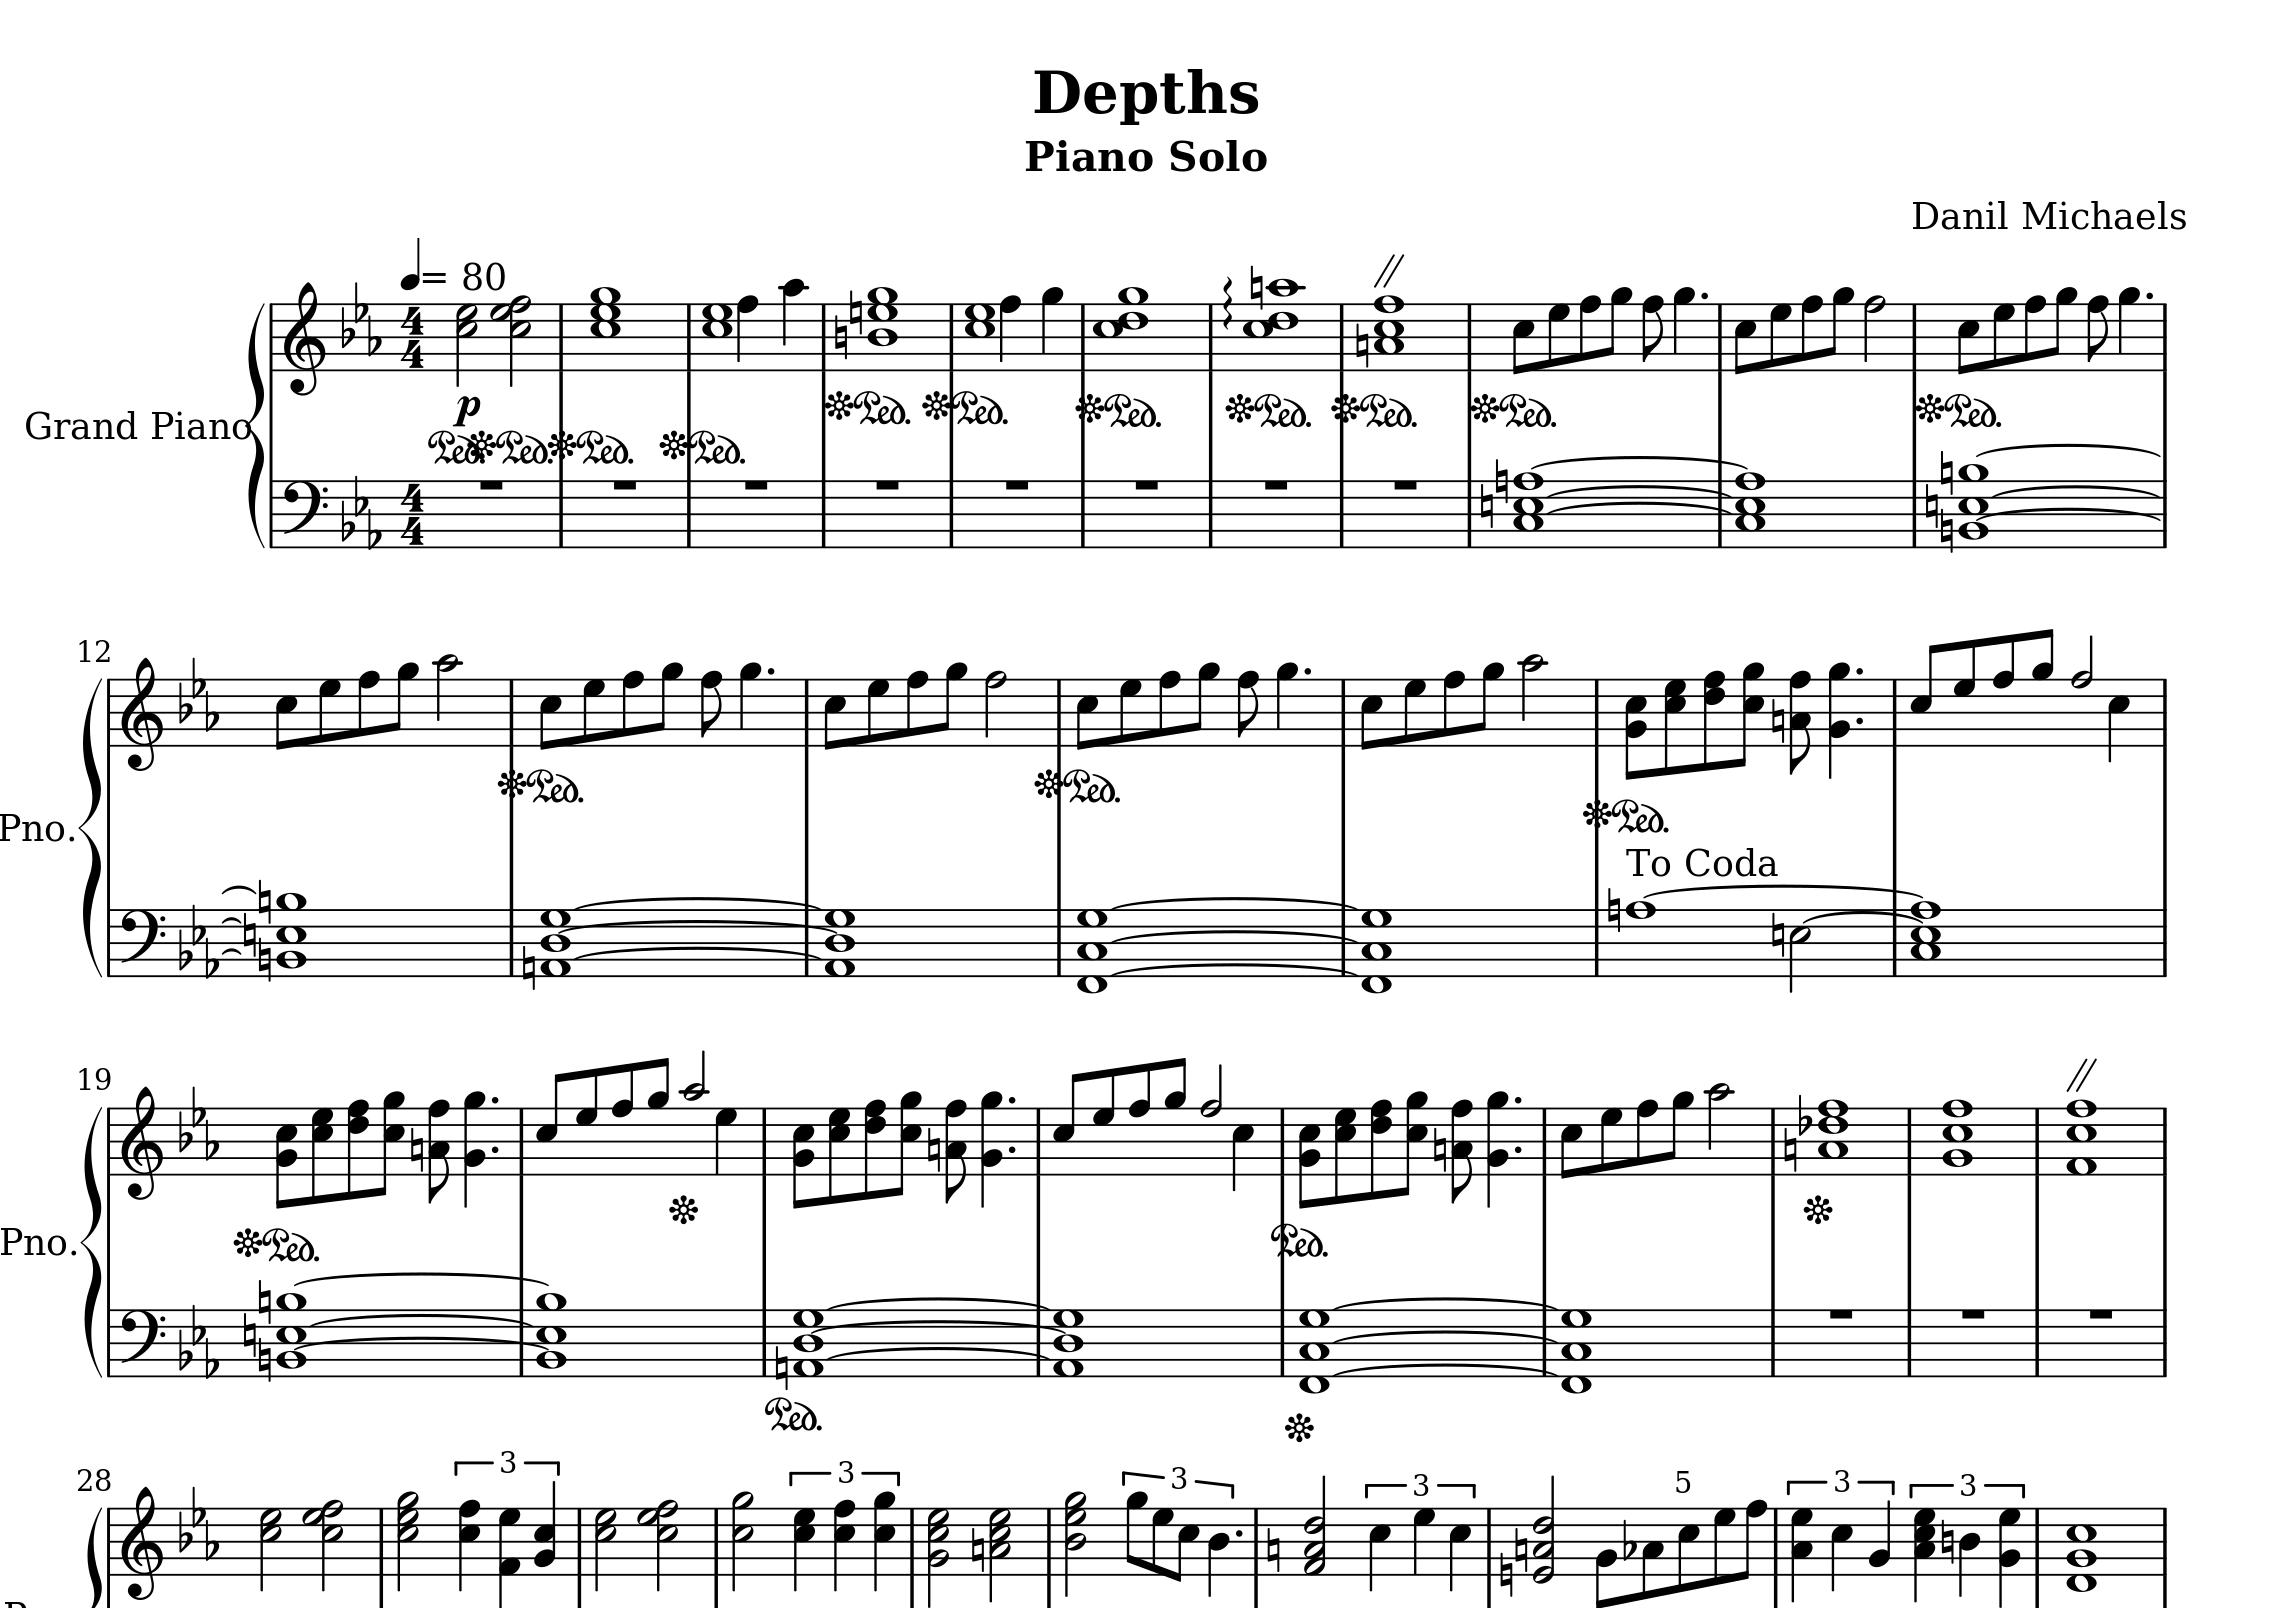0: (484, 258, 507, 292)
1: (77, 1063, 91, 1091), (78, 635, 91, 665)
1_5_7: (703, 301, 736, 374), (964, 303, 997, 372)
1_8: (1622, 896, 1657, 980)
1_th: (1243, 277, 1304, 372), (1091, 284, 1149, 371), (2063, 1504, 2101, 1596), (867, 284, 902, 376), (273, 893, 310, 980), (1558, 1305, 1593, 1396), (588, 284, 623, 372), (1358, 905, 1393, 994), (533, 1290, 567, 1378), (1297, 1305, 1332, 1394), (1956, 459, 1990, 548), (1076, 905, 1109, 994), (275, 1291, 308, 1380), (1815, 1095, 1850, 1173), (1732, 466, 1765, 546), (1941, 1096, 1974, 1176), (790, 1305, 825, 1380), (1513, 466, 1544, 548), (538, 905, 573, 978), (1050, 1305, 1084, 1378), (1373, 291, 1405, 371), (1909, 896, 1941, 976), (2066, 1096, 2097, 1176), (822, 907, 855, 980)
2: (92, 637, 111, 663), (75, 1465, 92, 1491)
2_10: (681, 1049, 707, 1175), (1706, 1081, 1734, 1178), (433, 653, 461, 748), (1520, 653, 1547, 748)
2_5: (1789, 908, 1814, 994)
2_5_7: (594, 1505, 620, 1592), (454, 305, 480, 386), (258, 1505, 280, 1592)
2_5_9: (731, 1490, 754, 1592)
2_7: (1199, 1062, 1224, 1176), (2071, 633, 2092, 745)
2_8: (1862, 292, 1887, 372), (983, 668, 1008, 748)
2_th: (637, 1497, 682, 1596), (299, 1498, 346, 1591), (491, 296, 534, 386), (1062, 1490, 1090, 1599), (1530, 1476, 1558, 1584), (1302, 1476, 1328, 1578), (397, 1490, 421, 1592), (926, 1504, 950, 1605), (987, 1504, 1011, 1603)
3: (1956, 1471, 1981, 1498), (1410, 1471, 1431, 1502), (1833, 1469, 1856, 1497), (1170, 1464, 1189, 1491), (498, 1450, 517, 1477), (837, 1460, 856, 1484)
4: (399, 303, 426, 336), (399, 336, 426, 369), (400, 479, 426, 513), (400, 513, 426, 546)
4_10: (780, 277, 808, 372)
4_1_7: (498, 1505, 520, 1608)
4_2: (1868, 1498, 1892, 1577)
4_2_5: (533, 1481, 557, 1578)
4_2_7: (978, 1088, 1004, 1209), (461, 1088, 487, 1209), (1998, 1504, 2021, 1608)
4_2_9: (1826, 660, 1852, 780), (1485, 1089, 1511, 1208)
4_3_7: (1789, 1505, 1814, 1603)
4_4: (1206, 1505, 1231, 1599), (1956, 1507, 1981, 1599)
4_5: (2106, 675, 2131, 764), (1231, 1105, 1255, 1192), (1829, 1505, 1854, 1592), (1368, 1505, 1391, 1592), (1448, 1505, 1471, 1592)
4_5_8: (456, 1498, 482, 1592)
4_7: (714, 1105, 738, 1176), (1412, 1505, 1436, 1577)
4_8: (997, 292, 1022, 372), (736, 292, 759, 372)
4_9: (738, 660, 762, 748), (1039, 284, 1064, 371), (1673, 285, 1697, 372), (1274, 660, 1299, 747), (2117, 285, 2139, 372)
4_th: (1909, 1500, 1939, 1605)
5: (1674, 1465, 1692, 1498)
8: (460, 258, 482, 291), (94, 1465, 111, 1491)
8_2: (1594, 1509, 1619, 1608)
8_2_5: (273, 1107, 299, 1211), (790, 1107, 816, 1209), (1624, 675, 1648, 781), (1297, 1107, 1321, 1209)
8_3: (1640, 1505, 1664, 1601)
8_3_8: (1448, 1098, 1476, 1206), (942, 1096, 970, 1204), (426, 1098, 454, 1206), (1788, 668, 1814, 774)
8_5: (1051, 1070, 1083, 1178), (534, 1070, 566, 1176), (1909, 642, 1939, 748), (1676, 1505, 1701, 1592), (1173, 1505, 1199, 1584), (273, 675, 299, 752), (1955, 301, 1981, 374), (538, 675, 562, 752), (1359, 675, 1384, 752), (1732, 301, 1756, 376), (822, 677, 846, 752), (1511, 301, 1535, 374), (1076, 675, 1098, 752), (1560, 1107, 1582, 1182)
8_5_7: (827, 1103, 851, 1201), (1662, 679, 1687, 774), (1333, 1107, 1358, 1203), (310, 1107, 334, 1203)
8_5_8: (1735, 663, 1767, 766)
8_5_9: (374, 1089, 406, 1196), (891, 1089, 923, 1194), (1398, 1089, 1427, 1196)
8_6_8: (1701, 670, 1727, 771), (1368, 1100, 1393, 1201), (346, 1098, 371, 1199), (863, 1098, 886, 1199)
8_7: (1091, 1065, 1116, 1176), (1951, 637, 1976, 747), (574, 1067, 599, 1176), (1401, 675, 1427, 748), (1117, 675, 1144, 747), (1713, 1505, 1735, 1585), (317, 675, 341, 748), (581, 675, 606, 748), (1768, 301, 1793, 372), (1991, 301, 2016, 372), (867, 675, 889, 748), (1151, 1505, 1173, 1578), (1547, 301, 1570, 372), (1600, 1107, 1622, 1176)
8_8: (1126, 1060, 1152, 1176), (609, 1062, 635, 1176), (1991, 632, 2016, 748), (1739, 1498, 1768, 1580), (1640, 292, 1666, 372), (620, 668, 646, 748), (2085, 292, 2110, 372), (700, 668, 724, 748), (905, 668, 929, 748), (1236, 668, 1260, 748), (1441, 668, 1466, 748), (1634, 1098, 1659, 1176), (1579, 292, 1601, 372), (2023, 292, 2045, 372), (357, 668, 379, 748), (1158, 668, 1180, 748), (1800, 292, 1822, 371)
8_9: (670, 661, 710, 747), (653, 660, 684, 748), (1474, 660, 1506, 748), (1164, 1055, 1187, 1176), (936, 661, 968, 748), (2031, 626, 2054, 747), (648, 1055, 670, 1175), (390, 660, 419, 748), (1191, 660, 1220, 748), (1603, 285, 1633, 372), (1824, 285, 1854, 372), (2049, 285, 2078, 372), (1666, 1089, 1695, 1176), (1124, 1490, 1149, 1577)
9: (92, 1063, 111, 1091)
Arpeggio: (1222, 273, 1238, 336)
Brace: (77, 672, 104, 978), (80, 1103, 104, 1378), (244, 299, 266, 548)
Caesura: (1373, 251, 1406, 287), (2066, 1055, 2099, 1091)
E_F: (176, 1303, 219, 1380), (339, 473, 383, 548), (176, 903, 219, 978), (339, 280, 381, 357), (178, 654, 219, 731), (178, 1084, 219, 1161), (178, 1484, 219, 1561)
Fclef: (280, 477, 331, 548), (118, 907, 167, 980), (118, 1309, 165, 1378)
Flat: (1795, 1089, 1812, 1135), (1621, 1518, 1636, 1561)
Gclef: (118, 1082, 164, 1201), (118, 1483, 164, 1601), (282, 278, 327, 395), (120, 654, 164, 773)
Natural: (924, 1124, 943, 1175), (519, 943, 538, 990), (240, 1312, 258, 1363), (1248, 263, 1265, 312), (1352, 320, 1370, 369), (1478, 480, 1495, 529), (1768, 696, 1786, 745), (407, 1126, 425, 1175), (1431, 1126, 1448, 1175), (1265, 1526, 1283, 1575), (848, 285, 863, 339), (1937, 447, 1955, 494), (1768, 910, 1786, 957), (1513, 1524, 1528, 1577), (1939, 503, 1955, 553), (970, 1526, 985, 1577), (1923, 479, 1937, 534), (1493, 456, 1509, 505), (1607, 886, 1622, 935), (1939, 1518, 1955, 1566), (834, 313, 849, 360), (1782, 1128, 1798, 1175), (256, 1276, 272, 1323), (773, 1343, 789, 1390), (256, 877, 272, 921), (258, 1335, 272, 1384), (1499, 1549, 1513, 1598), (258, 935, 272, 982)
Pno: (150, 407, 249, 439), (2, 1222, 68, 1262), (2, 807, 64, 846)
Rests1: (1824, 1303, 1857, 1323), (1956, 1303, 1990, 1323), (607, 475, 641, 492), (1130, 475, 1163, 492), (475, 475, 507, 492), (742, 475, 773, 492), (872, 475, 903, 492), (1001, 475, 1032, 492), (1260, 475, 1292, 492), (2085, 1303, 2117, 1321), (1391, 475, 1420, 492)
Single_barline: (2153, 1507, 2172, 1577), (679, 303, 698, 371), (942, 303, 961, 371), (942, 479, 961, 546), (2028, 1507, 2047, 1575), (503, 677, 520, 747), (1051, 677, 1069, 747), (503, 907, 520, 976), (1051, 907, 1069, 976), (1906, 303, 1923, 371), (552, 303, 569, 371), (815, 303, 832, 371), (1333, 303, 1351, 371), (1460, 303, 1478, 371), (552, 479, 569, 546), (815, 479, 832, 546), (1074, 479, 1091, 546), (1203, 479, 1220, 546), (1333, 479, 1351, 546), (1460, 479, 1478, 546), (799, 679, 816, 747), (1335, 679, 1352, 747), (1587, 679, 1605, 747), (1337, 908, 1354, 976), (1587, 908, 1605, 976), (755, 1107, 773, 1175), (1274, 1107, 1292, 1175), (1535, 1107, 1553, 1175), (1901, 1107, 1918, 1175), (755, 1309, 773, 1377), (2155, 1309, 2172, 1377), (1274, 1309, 1292, 1377), (1763, 1309, 1781, 1377), (372, 1507, 390, 1575), (571, 1507, 588, 1575), (903, 1507, 921, 1575), (1041, 1507, 1058, 1575), (1885, 908, 1903, 976), (2155, 908, 2172, 975), (2028, 1109, 2045, 1175), (708, 1509, 726, 1573), (2157, 301, 2172, 372), (1768, 1505, 1784, 1577), (2157, 479, 2172, 548), (2157, 677, 2172, 747), (1076, 303, 1091, 371), (1713, 303, 1728, 371), (1908, 479, 1923, 546), (681, 479, 696, 546), (103, 679, 118, 747), (2157, 1107, 2172, 1175), (1901, 1309, 1916, 1377), (2030, 1309, 2045, 1377), (1481, 1507, 1497, 1575), (1203, 305, 1218, 371), (1887, 679, 1903, 745), (513, 1109, 529, 1175), (1030, 1109, 1046, 1175), (1765, 1109, 1781, 1175), (265, 301, 279, 371), (103, 907, 117, 976), (103, 1505, 117, 1575), (1250, 1509, 1264, 1578), (103, 1107, 117, 1175), (103, 1309, 117, 1377), (266, 479, 279, 546)
Slur: (557, 921, 832, 936), (291, 1270, 548, 1286), (809, 1321, 1064, 1337), (1104, 894, 1356, 910), (571, 894, 822, 910), (1530, 454, 1751, 472), (1326, 1328, 1558, 1343), (291, 1337, 547, 1350), (1333, 1361, 1558, 1377), (1107, 929, 1356, 943), (1109, 962, 1358, 976), (308, 1312, 529, 1328), (1641, 886, 1925, 898), (830, 1295, 1048, 1310), (1970, 506, 2164, 524), (820, 1349, 1057, 1363), (1332, 1296, 1558, 1310), (1974, 444, 2150, 459), (1993, 484, 2164, 499), (573, 947, 823, 957), (1542, 486, 1732, 498), (1549, 501, 1730, 513), (1800, 910, 1913, 922), (221, 882, 258, 896), (219, 914, 244, 926), (219, 947, 245, 955)
Speed4: (400, 235, 449, 291)
Speed_4=80: (399, 238, 507, 292)
TimeSig: (399, 480, 430, 546), (399, 303, 428, 369)
ToCoda: (1627, 848, 1781, 881)
dot: (487, 1093, 500, 1107), (1511, 1093, 1523, 1107), (1004, 1093, 1017, 1105), (1513, 1142, 1525, 1154), (1232, 1526, 1245, 1538), (2143, 287, 2153, 299), (1300, 665, 1312, 675), (1854, 665, 1864, 677), (764, 665, 776, 675), (1854, 714, 1864, 726), (1699, 289, 1709, 299), (489, 1143, 500, 1154), (1006, 1143, 1017, 1154)
p: (451, 393, 480, 426)
